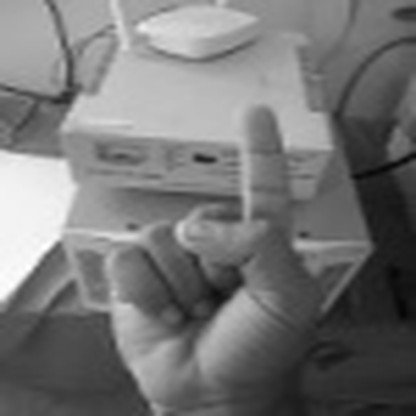d: (99, 98, 301, 416)
